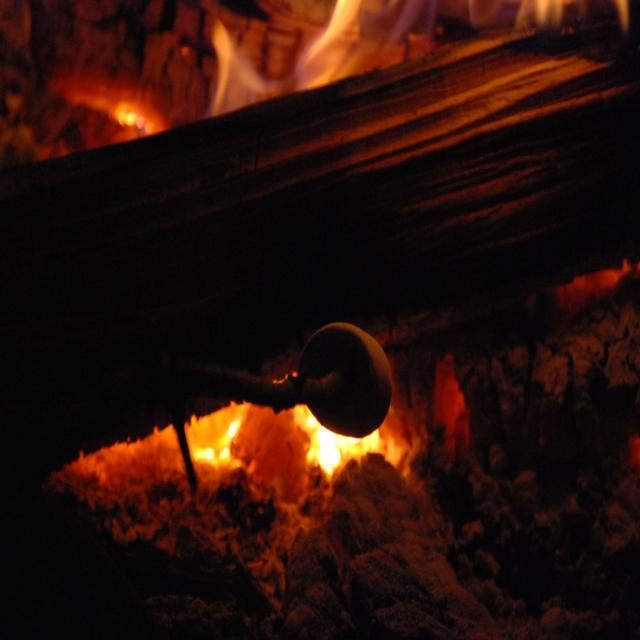Fire: (214, 44, 253, 114), (314, 425, 344, 477)
